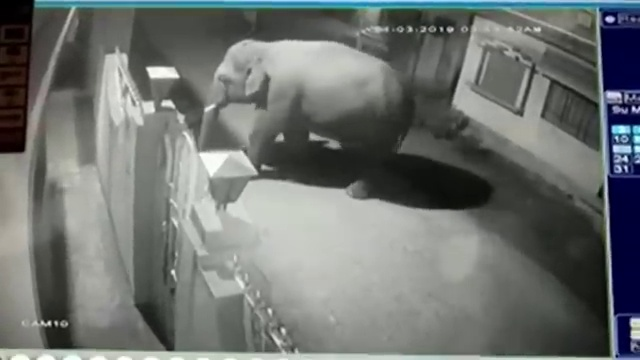Elephant: (198, 39, 411, 200)
